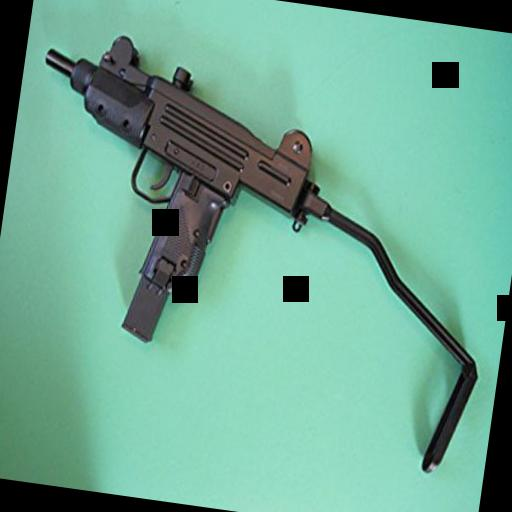Handgun: (0, 8, 325, 370)
